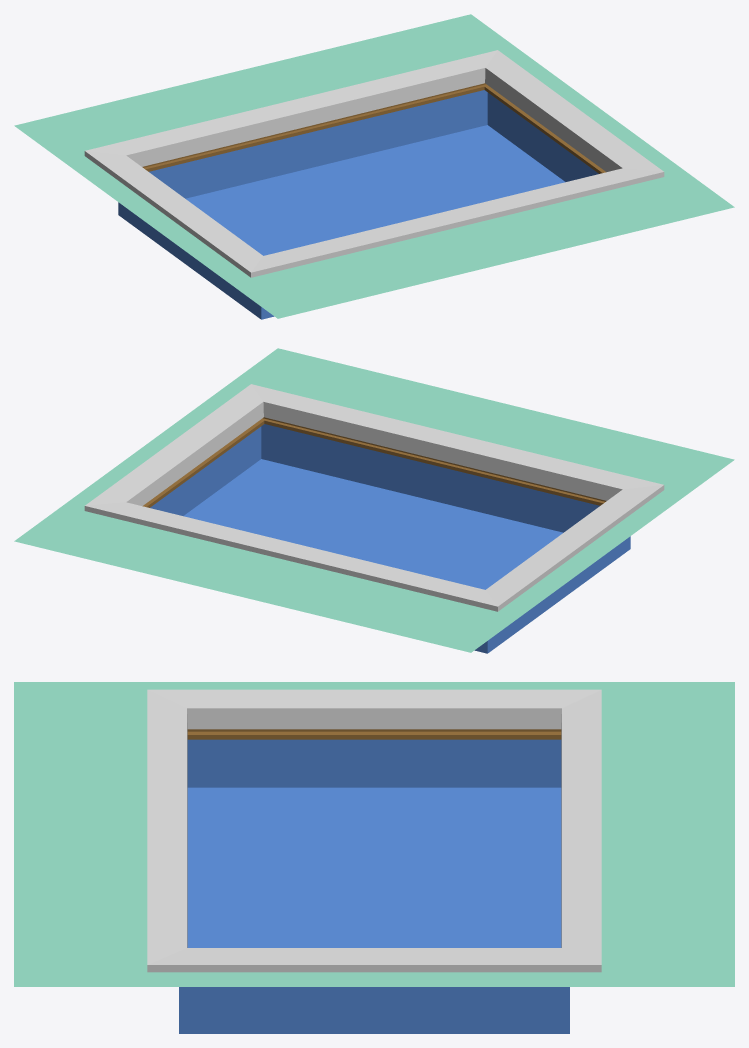
3 renders of one model, top to bottom at view 1: azimuth 30°, elevation 25°; view 2: azimuth 150°, elevation 25°; view 3: azimuth 270°, elevation 25°, orthographic. The views are drawn at different scales.
Parts seen in each view (by area): view 1: 地面, 泳池, 边沿, 线; view 2: 地面, 泳池, 边沿, 线; view 3: 泳池, 地面, 边沿, 线.
Part boxes in pixels (left/top/right/bottom): 地面: left=14, top=14, right=734, bottom=318; 泳池: left=118, top=90, right=598, bottom=319; 边沿: left=84, top=50, right=664, bottom=277; 线: left=142, top=83, right=606, bottom=173; 地面: left=14, top=348, right=734, bottom=652; 泳池: left=150, top=424, right=630, bottom=653; 边沿: left=84, top=384, right=664, bottom=611; 线: left=142, top=417, right=606, bottom=507; 泳池: left=179, top=739, right=569, bottom=1033; 地面: left=14, top=682, right=734, bottom=986; 边沿: left=147, top=689, right=601, bottom=972; 线: left=187, top=729, right=561, bottom=739.
Size of the model in its own units: 2000 by 255 by 2000.
